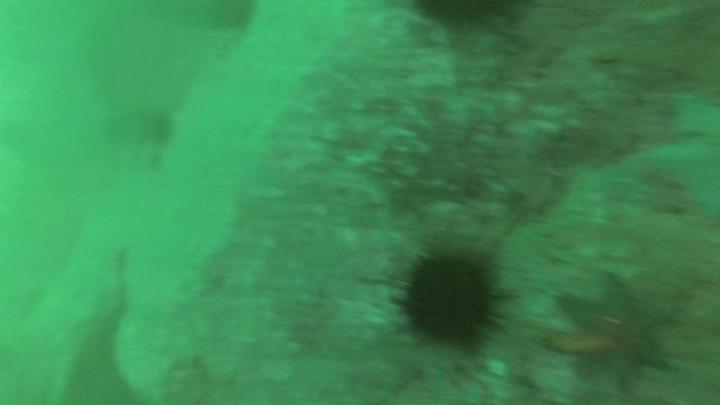echinus: (405, 259, 492, 348), (150, 115, 171, 146)
starfish: (558, 272, 672, 383)
